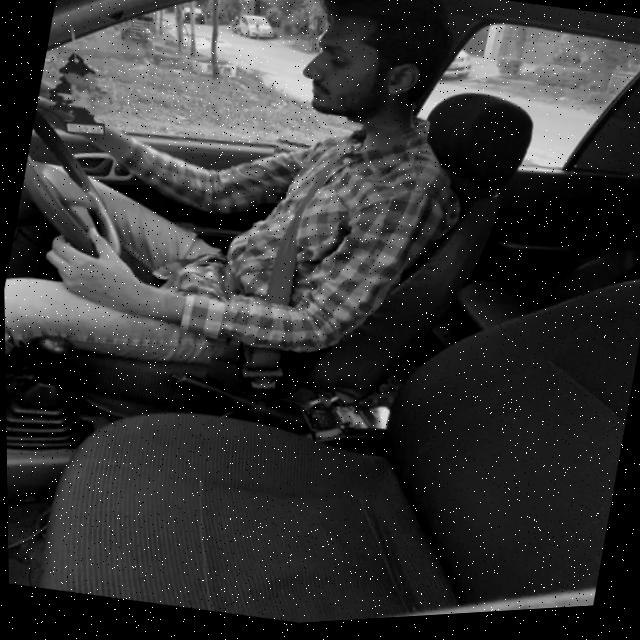seatbelt: (206, 102, 406, 424)
